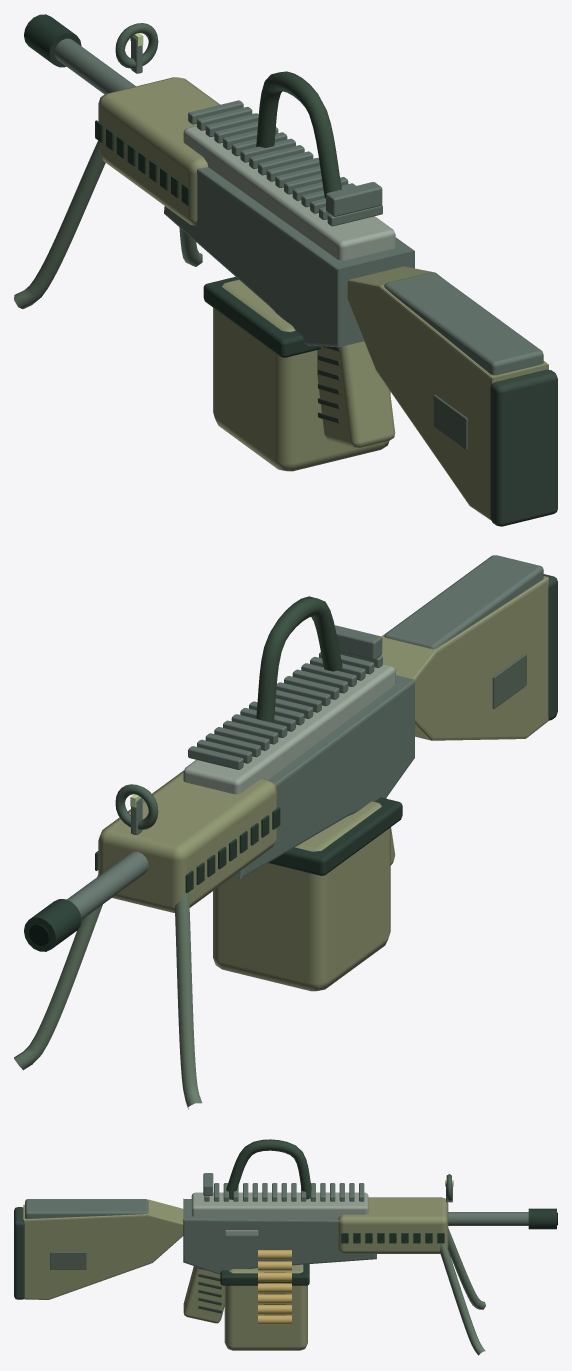
3 views of the same model, one above another, from view 1: azimuth 30°, elevation 25°; view 2: azimuth 150°, elevation 25°; view 3: azimuth 270°, elevation 25° (orthographic). The views are drawn at different scales.
Parts seen in each view (by area): view 1: m249, magazine; view 2: m249, magazine; view 3: m249, magazine.
Boxes of the visible parts, bbox=[...] form: m249: bbox=[14, 14, 557, 526]; magazine: bbox=[203, 276, 390, 471]; m249: bbox=[14, 555, 557, 1109]; magazine: bbox=[213, 797, 402, 991]; m249: bbox=[14, 1139, 557, 1355]; magazine: bbox=[220, 1249, 309, 1350].
Bounding box in the file's own units: 0.3621 × 0.6549 × 1.63.
